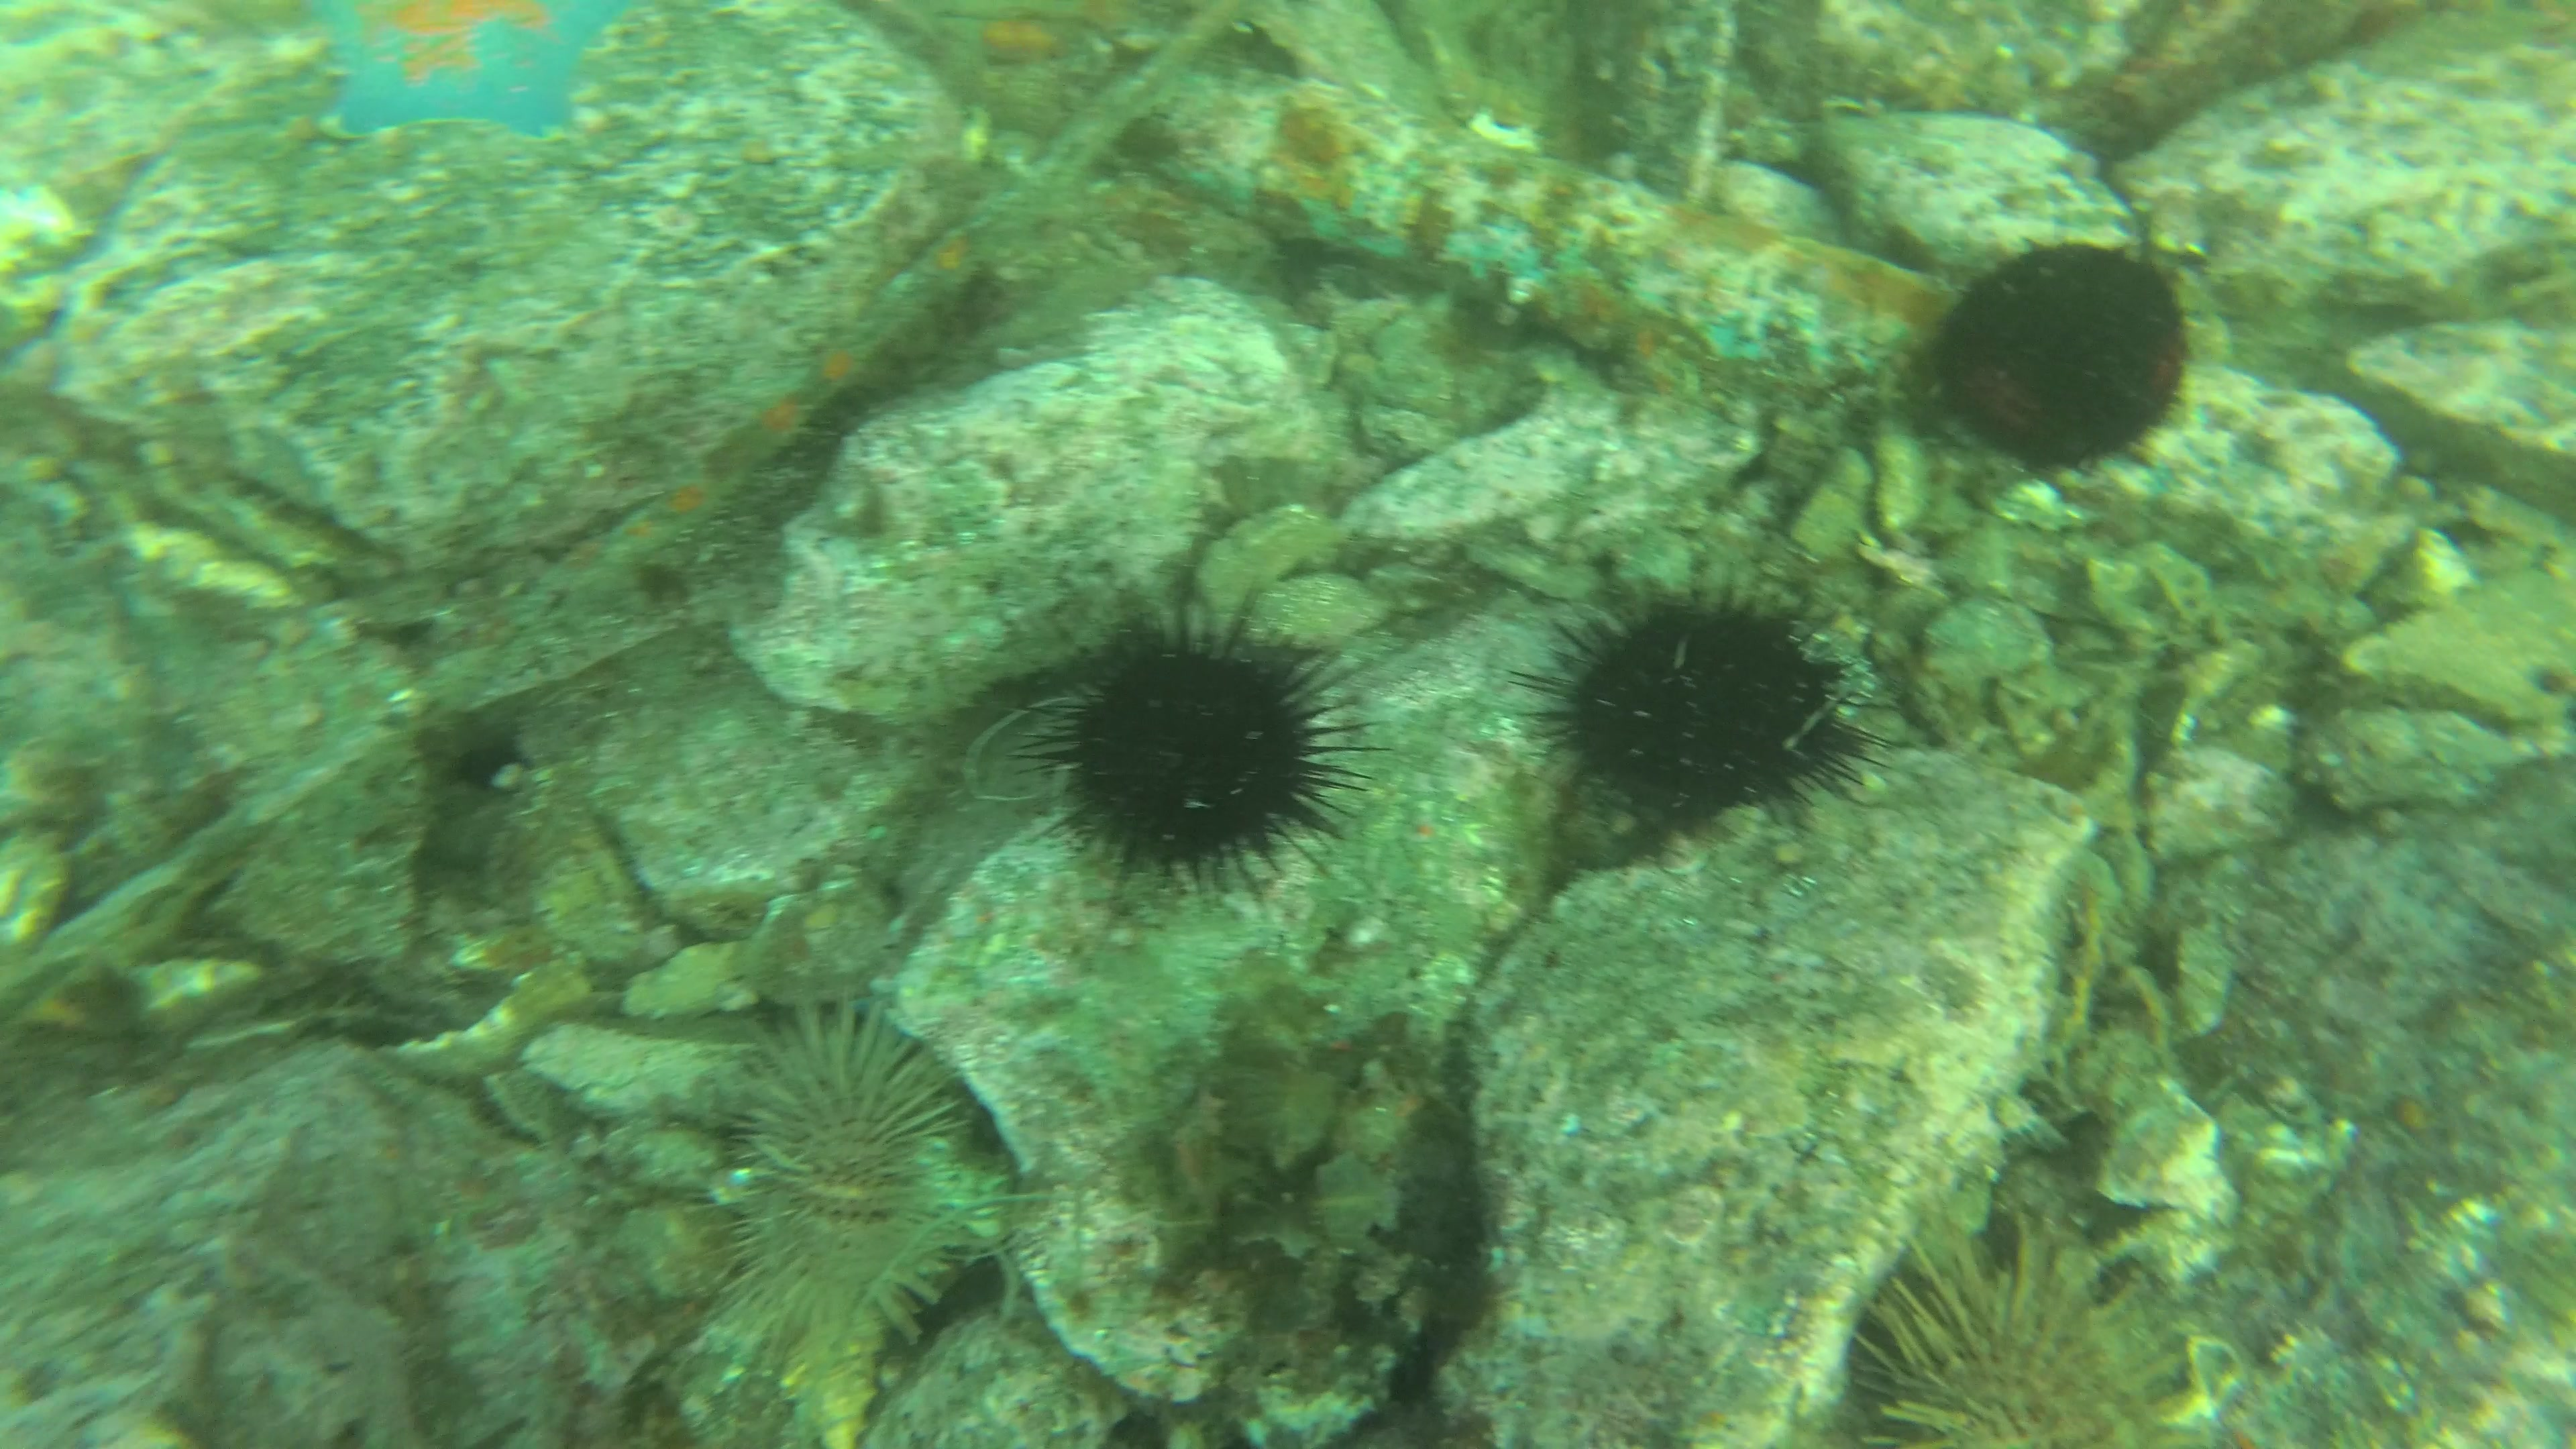echinus: (688, 994, 961, 1353), (1019, 609, 1361, 893), (1522, 563, 1870, 828), (1847, 1203, 2164, 1449), (1943, 228, 2183, 487)
starfish: (297, 0, 617, 150)
